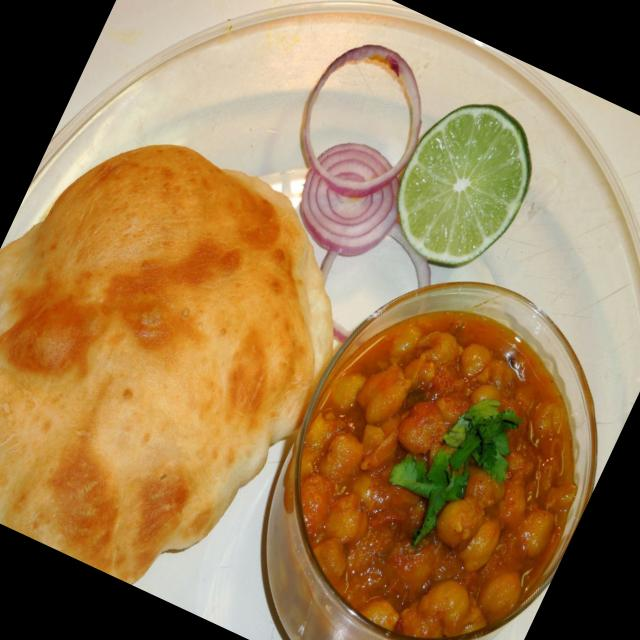Bhatura: (0, 85, 390, 621)
Chole: (250, 277, 619, 640)
